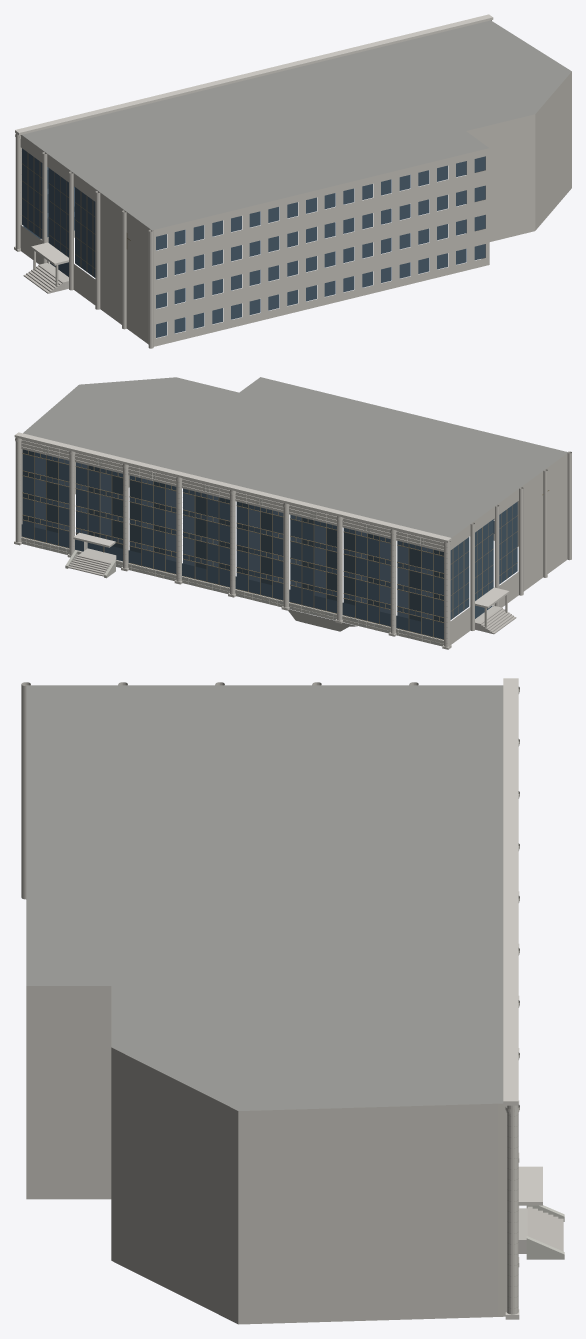
3 renders of one model, top to bottom at view 1: azimuth 30°, elevation 25°; view 2: azimuth 150°, elevation 25°; view 3: azimuth 270°, elevation 25°, orthographic. The views are drawn at different scales.
Visible parts, largest first — view 1: music__roof, music__stone, music__glass, music__trim, music__frame, music__gateSteps; view 2: music__roof, music__glass, music__stone, music__frame, music__glassShade, music__glassSky, music__trim, music__baseStone, music__baseStoneAlt, music__steps, foundation__music, music__gateSteps; view 3: music__roof, music__stone, music__trim, music__steps, music__baseStone.
Part boxes in pixels (x1,y1,x2,y2): music__roof: (22,20,571,230); music__stone: (15,20,571,348); music__glass: (22,148,485,337); music__trim: (14,14,493,265); music__frame: (22,152,130,276); music__gateSteps: (23,264,64,293); music__roof: (23,377,568,537); music__glass: (21,452,517,639); music__stone: (15,437,571,648); music__frame: (22,450,549,639); music__glassShade: (22,449,443,622); music__glassSky: (34,457,432,619); music__trim: (14,432,509,649); music__baseStone: (21,445,443,646); music__baseStoneAlt: (21,541,438,645); music__steps: (68,554,111,576); foundation__music: (288,609,357,631); music__gateSteps: (478,607,516,634); music__roof: (26,685,503,1110); music__stone: (21,682,519,1324); music__trim: (503,678,542,1319); music__steps: (527,1206,563,1251); music__baseStone: (526,1205,564,1259).
Size of the model in its own units: 76.37 by 18.98 by 39.22.
